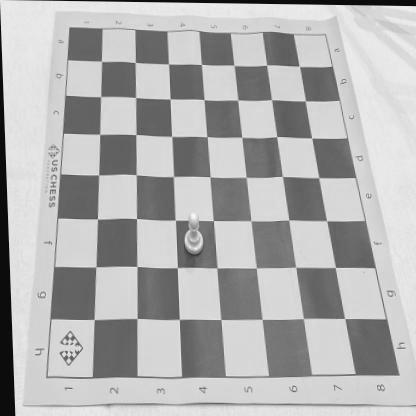white-pawn: (181, 210, 202, 255)
